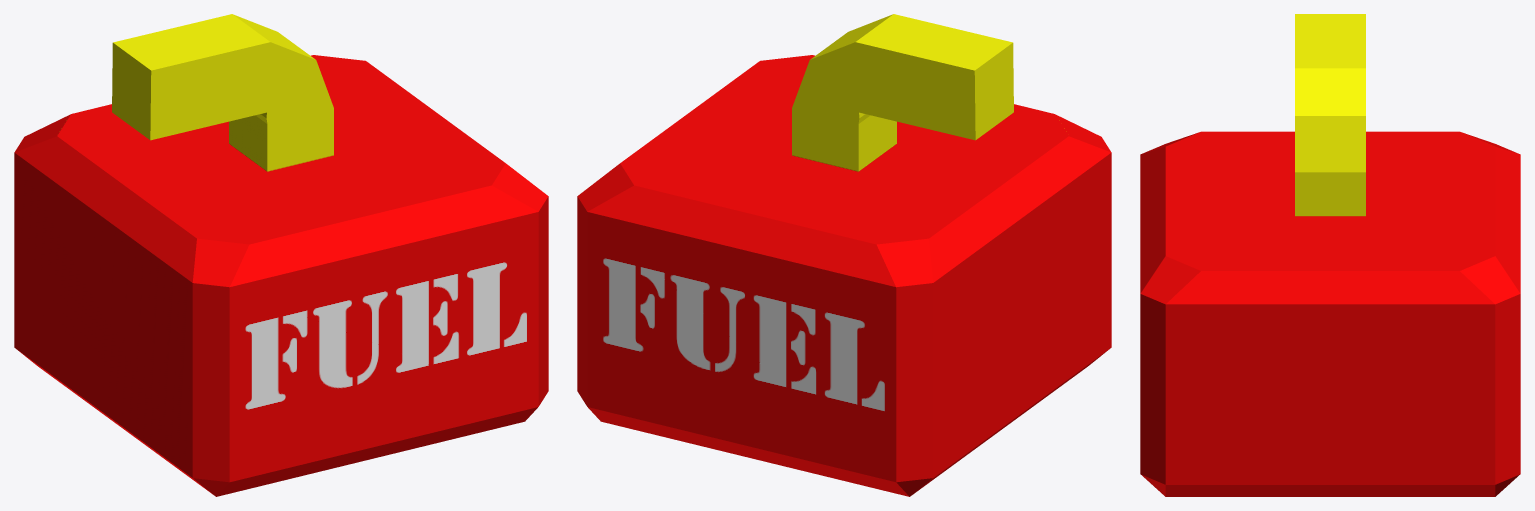
Rendered from fuel.fbx.
3 views of the same model, side by side, from view 1: azimuth 30°, elevation 25°; view 2: azimuth 150°, elevation 25°; view 3: azimuth 270°, elevation 25° (orthographic). The views are drawn at different scales.
Parts seen in each view (by area): view 1: mesh_fuel; view 2: mesh_fuel; view 3: mesh_fuel.
Part boxes in pixels (x1,y1,x2,y2): mesh_fuel: (14,14,548,496); mesh_fuel: (577,14,1111,496); mesh_fuel: (1140,14,1520,496).
Bounding box in the file's own units: 50 × 50.21 × 50.
1 material, 1 textured.
